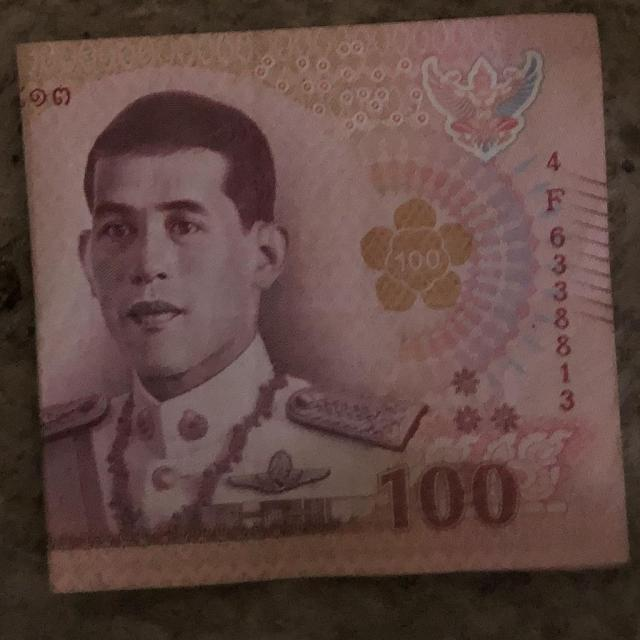THAI100: (16, 13, 631, 599)
